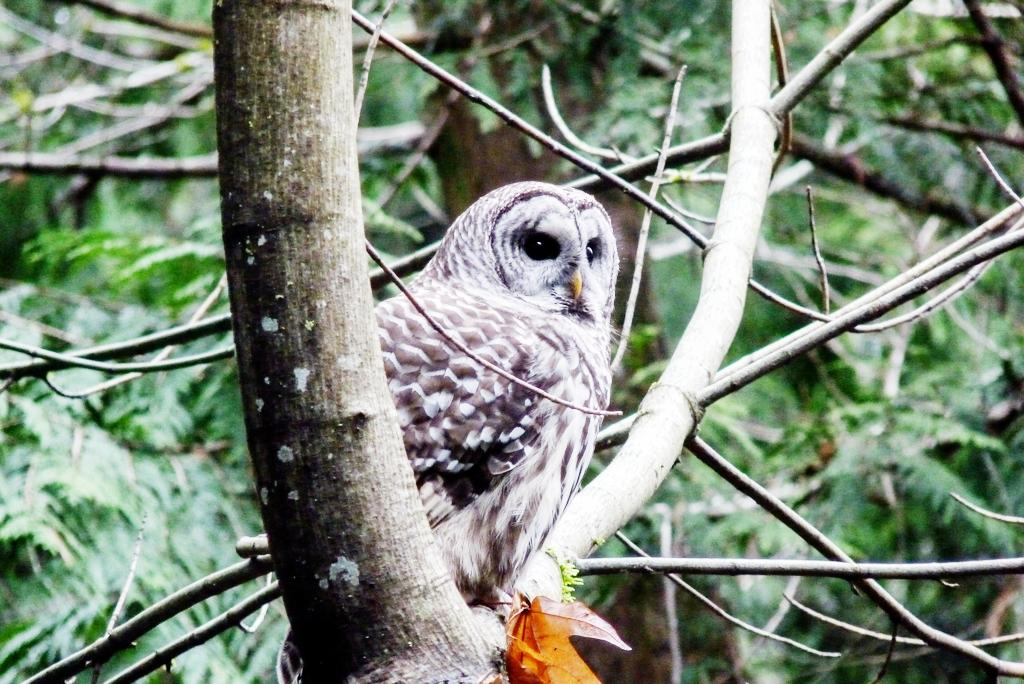Owl: (356, 174, 620, 610)
